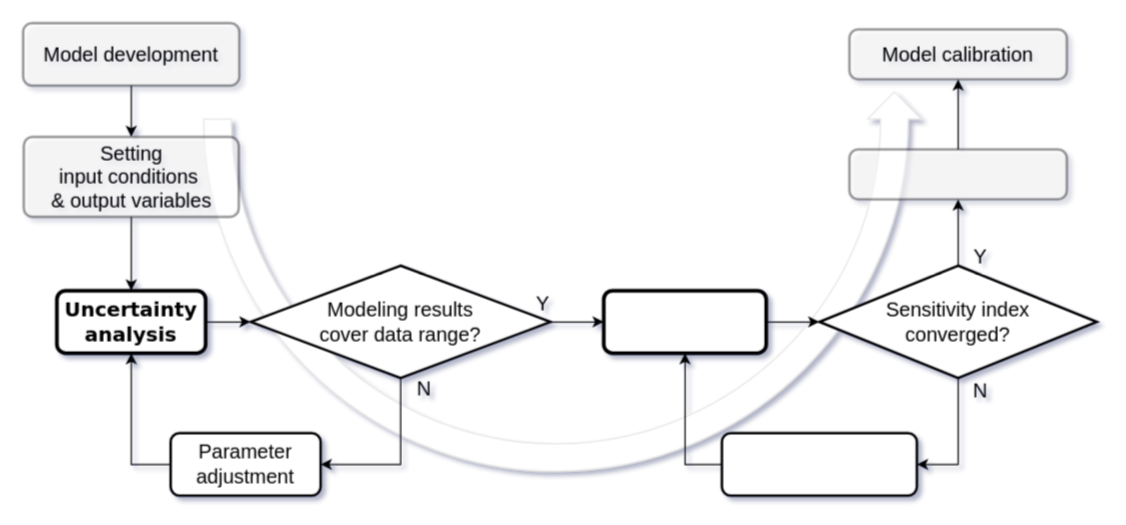
Some shapes in this 1126 by 525 pixel diagram are drawn without their labels. Here are the shapes that lost their labels. From the top down, the centre of each, then its label:
At point (958, 174): "Parameter fixing".
At point (684, 321): "Sensitivity analysis".
At point (819, 463): "Sample size increment".
